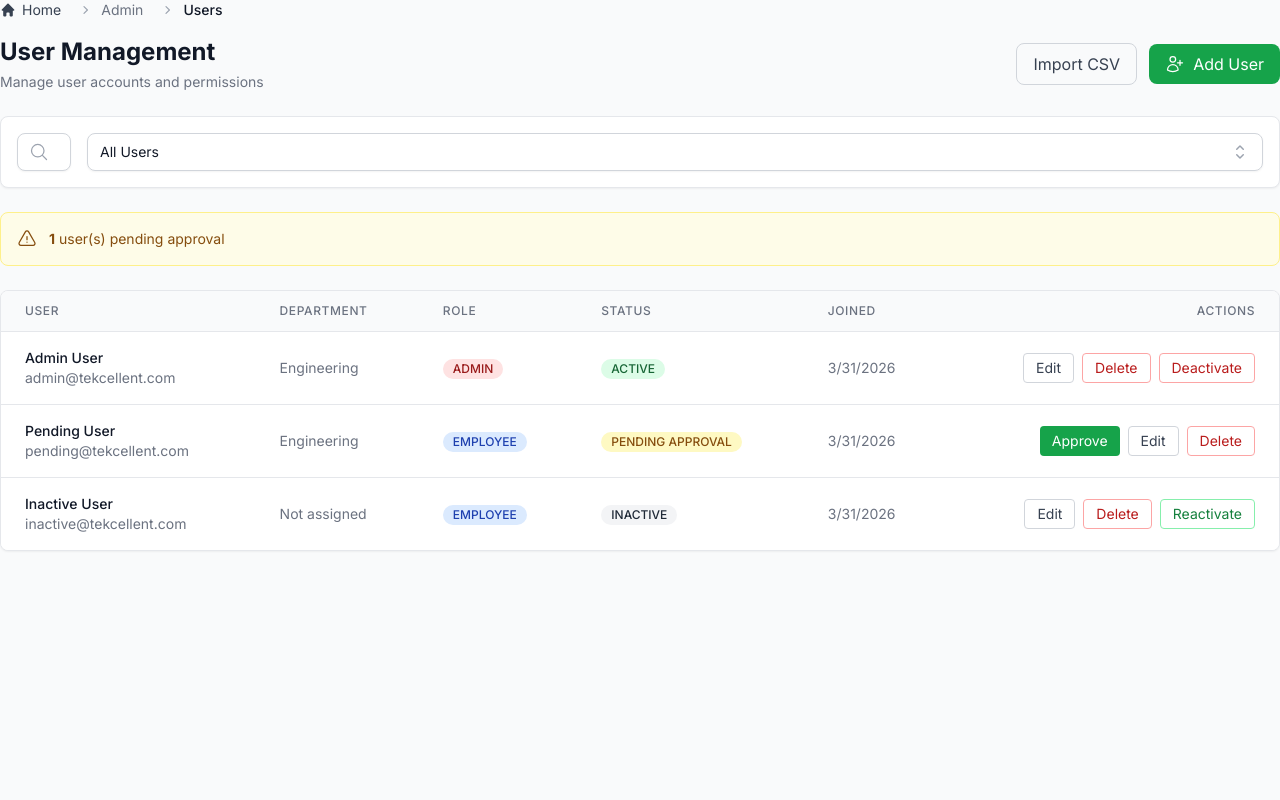
Test: UsersPage › Deactivate User › should close modal when Cancel is clicked
// Open modal
Click the button "Deactivate". click: (1207, 368)
box: [1158, 353, 1255, 383]
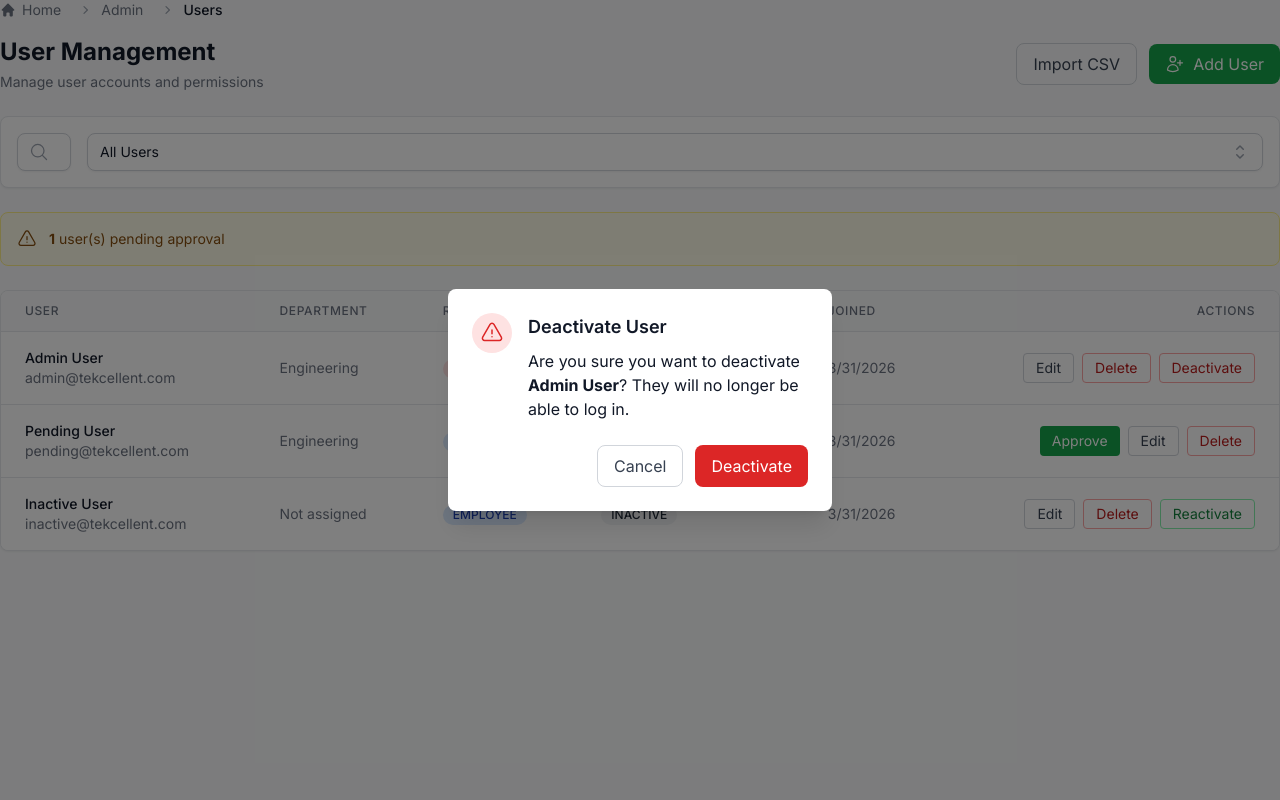
Expected: the text "Are you sure" is shown, [528, 351, 800, 371]
Click the button "Cancel". click: (640, 466)
box: [597, 445, 684, 487]
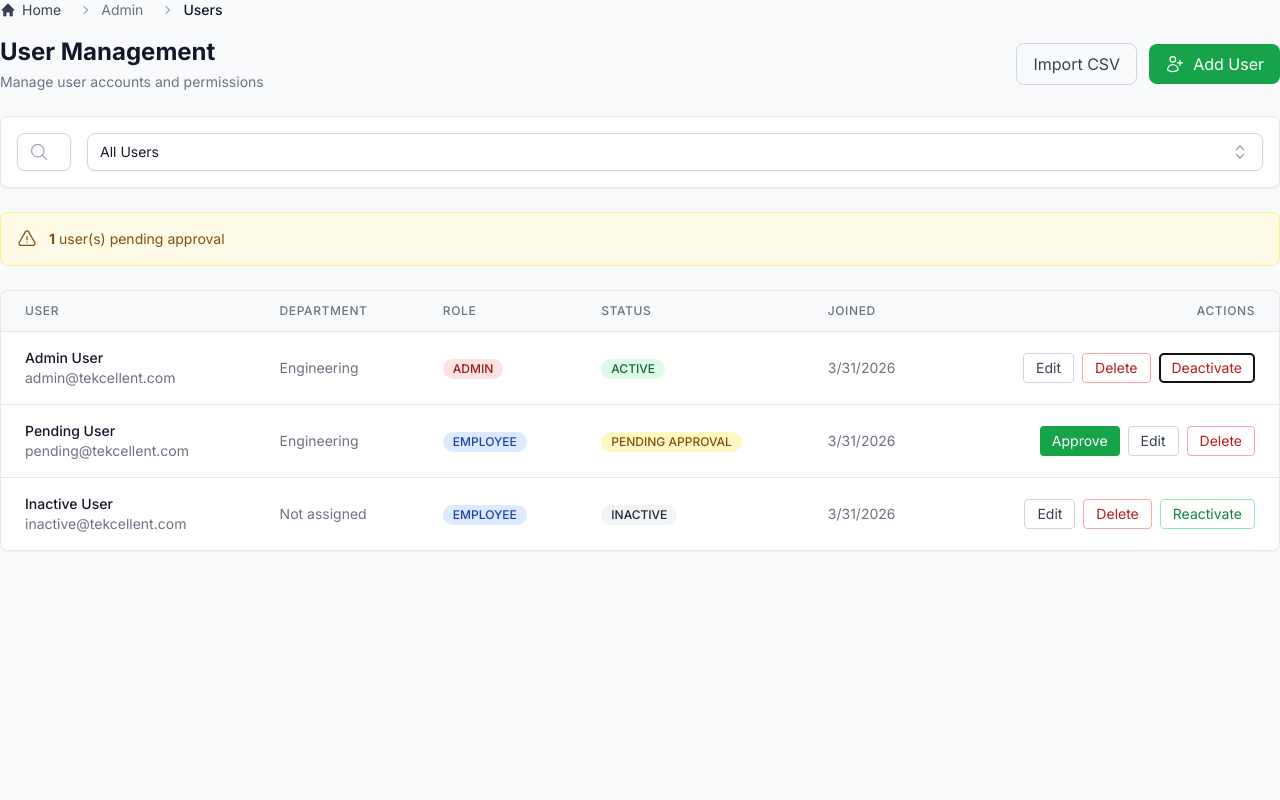
Expected: the text "Are you sure" is gone
